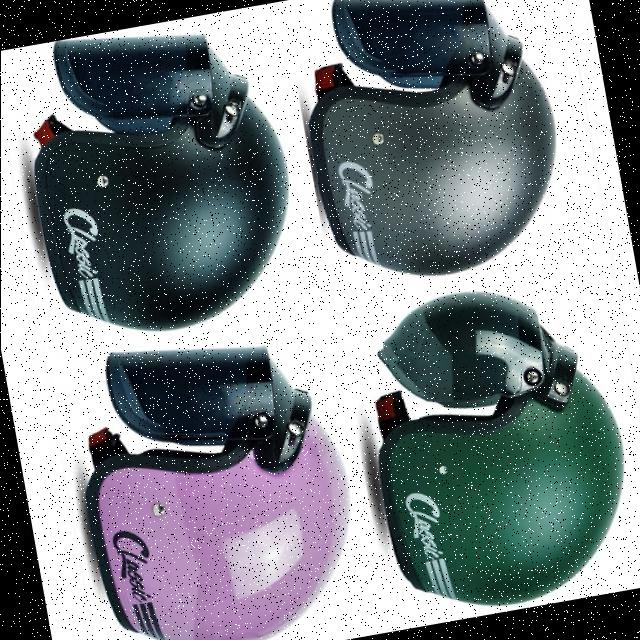helmet: (362, 288, 622, 606), (77, 347, 347, 640), (25, 29, 287, 327), (304, 0, 559, 275)
